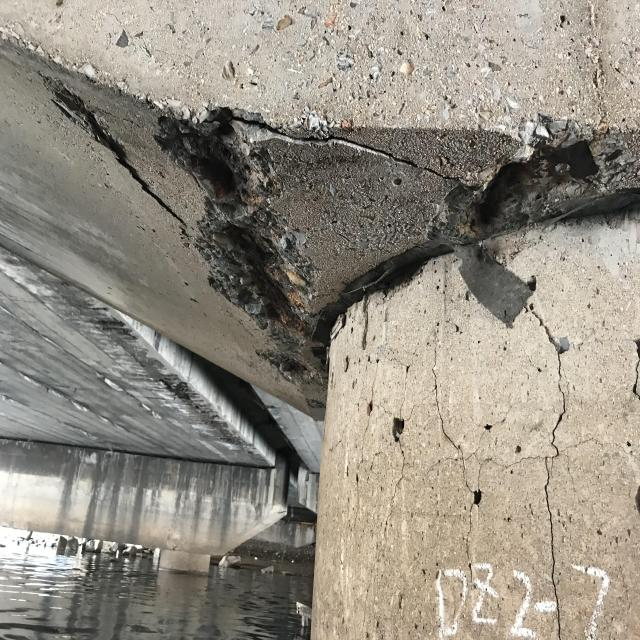concrete spalling: (152, 104, 326, 384), (426, 135, 599, 244)
diagonal crack: (38, 74, 185, 228)
horizontal crack: (230, 114, 461, 184)
multi-branched crack: (357, 305, 640, 640)
